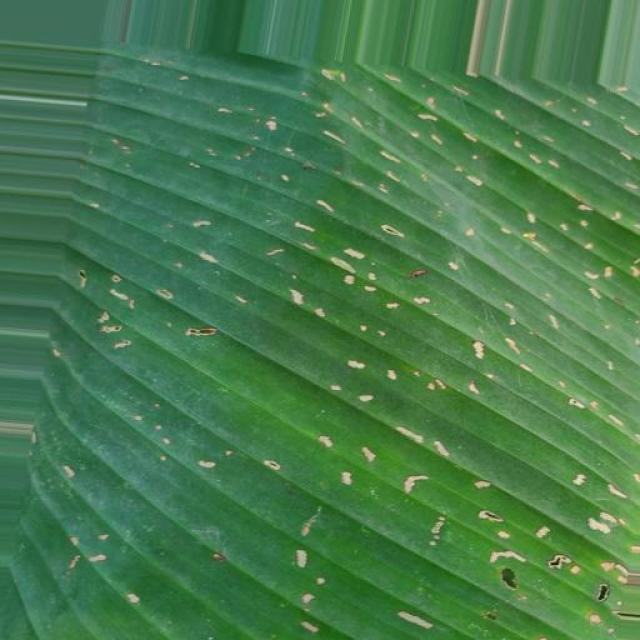Black_rot: (40, 39, 640, 640)
